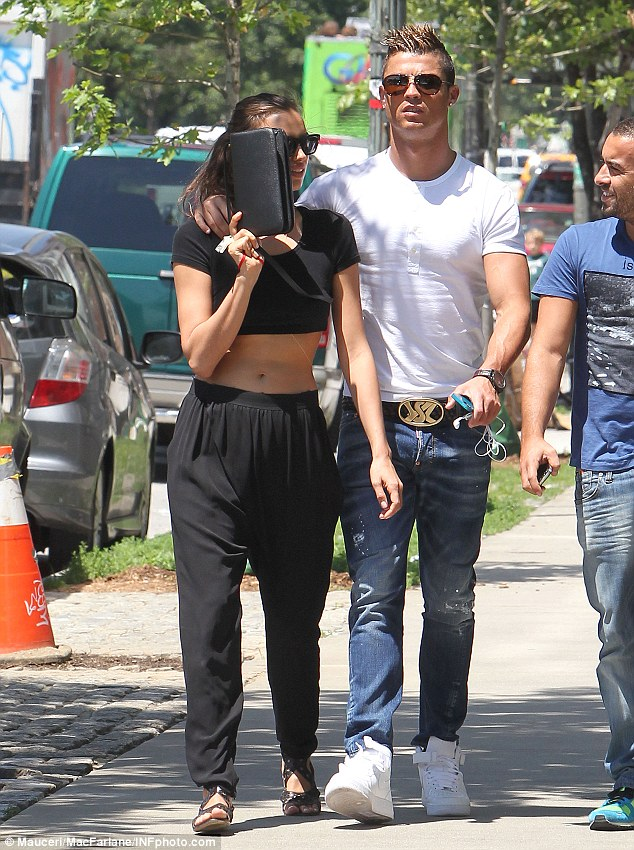Person: (165, 90, 406, 836), (322, 22, 531, 824)
